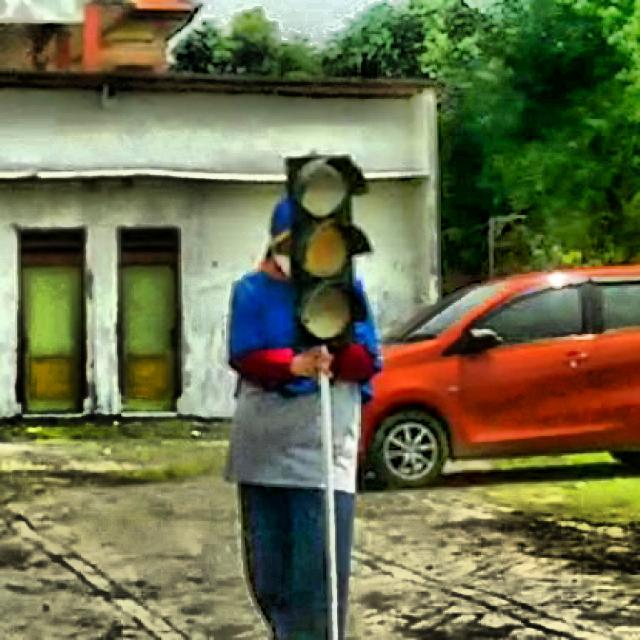yellow: (285, 158, 369, 349)
